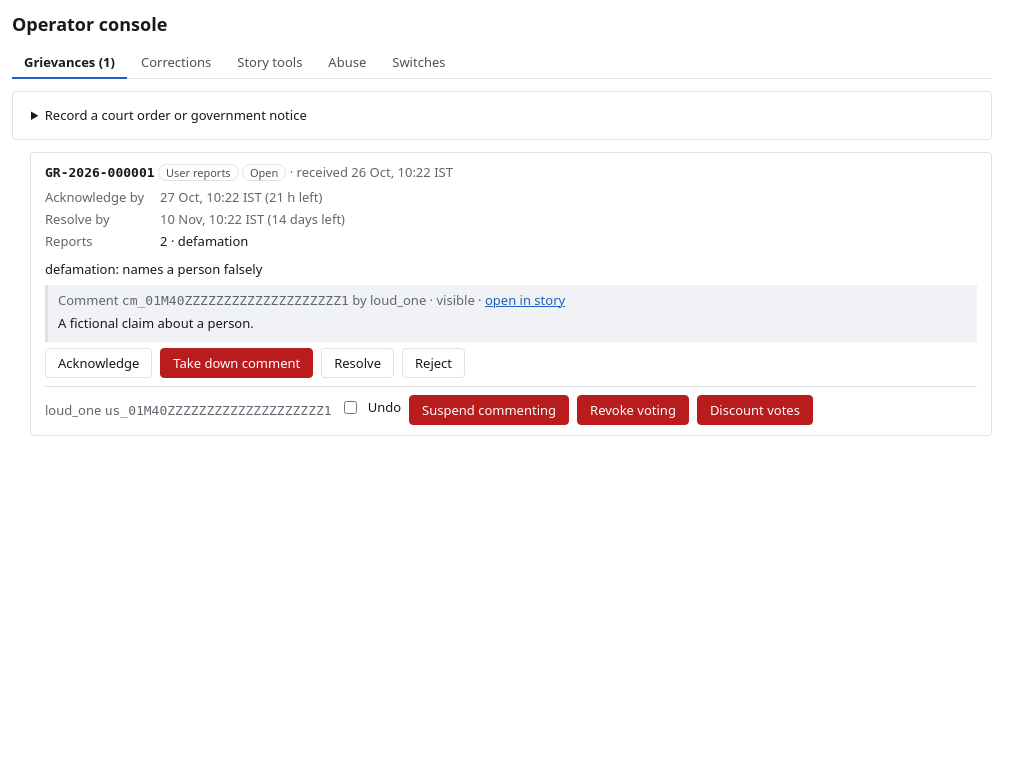
Scenario: operator console (PRD-006 §5, PRD-002 US-002.11, PRD-004 US-004.4 AC-5) › resolving needs a written decision
The width and height of the screenshot is (1036, 780).
Click the button "Resolve". click: (358, 363)
box: x1=321 y1=348 x2=394 y2=378
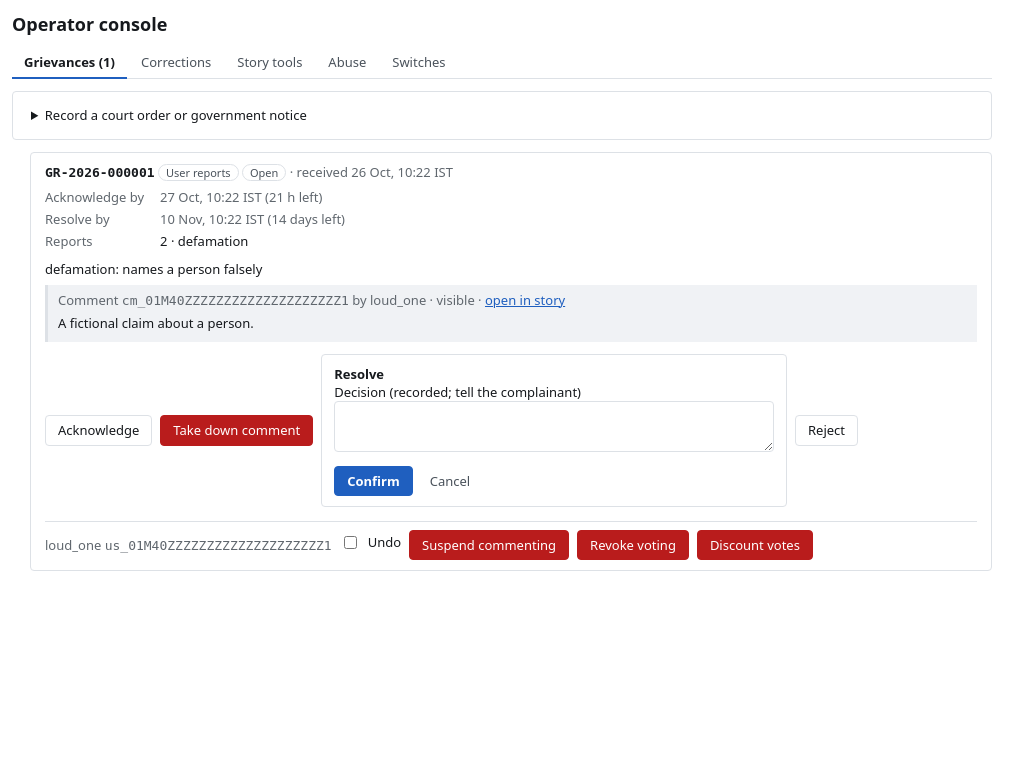
Click the button "Confirm". click: (373, 481)
box: x1=334 y1=466 x2=413 y2=496
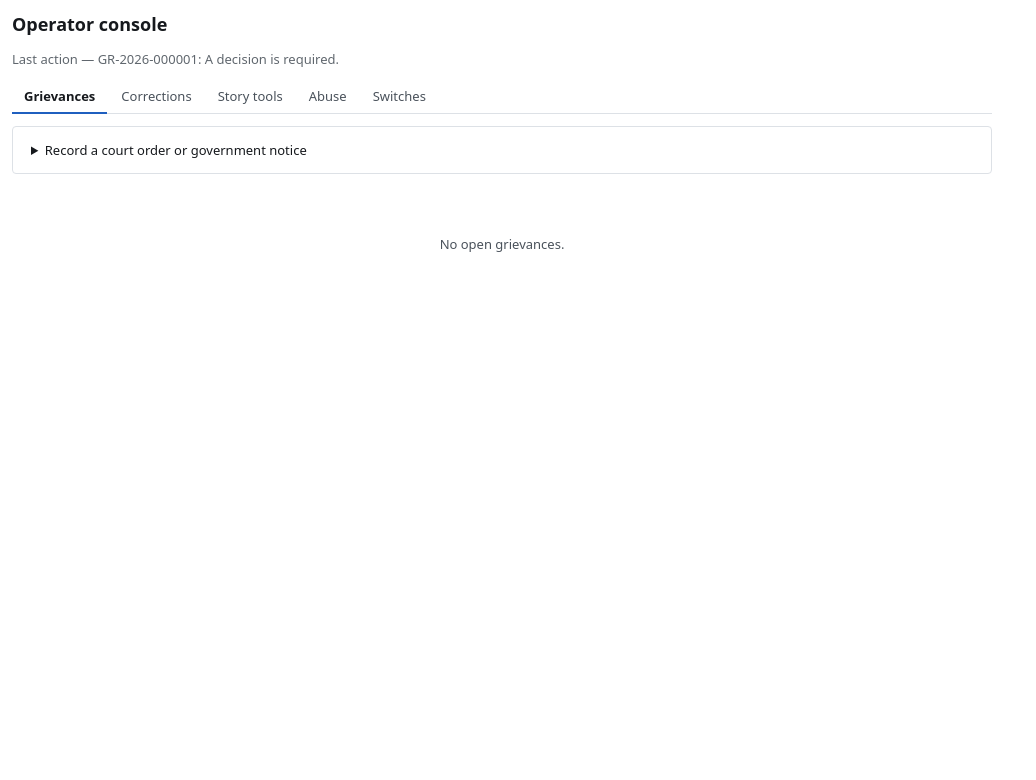
Check: the text "Last action — GR-2026-000001: A decision is required." is shown, box x1=12 y1=50 x2=339 y2=68
